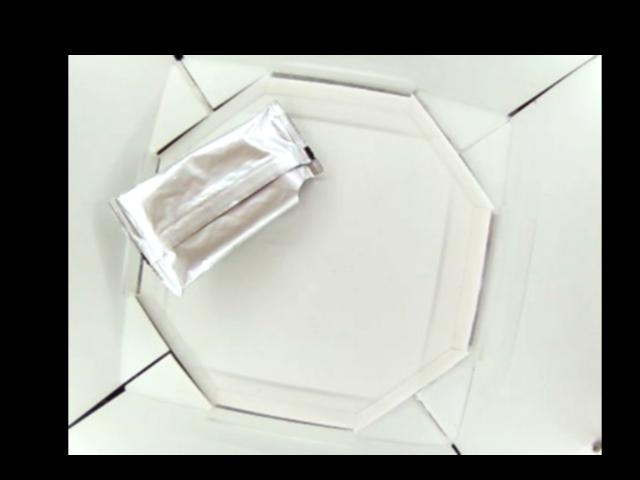Medicine: (110, 98, 325, 298)
